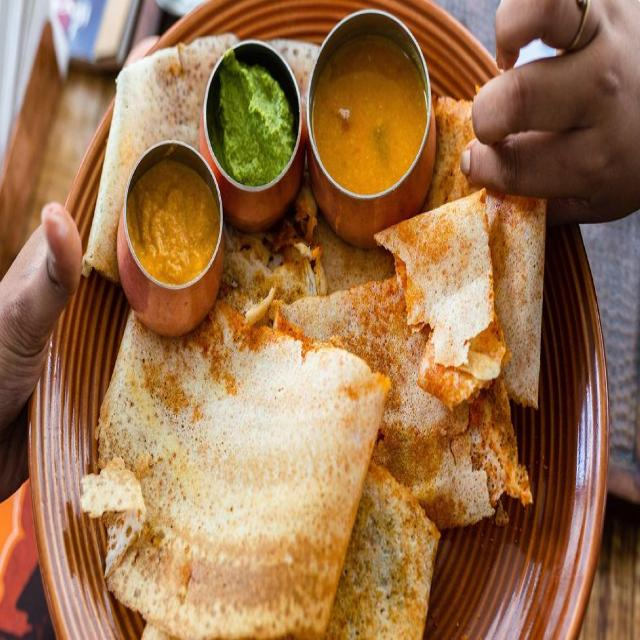Wet Waste: (113, 270, 385, 636), (282, 235, 534, 527)
